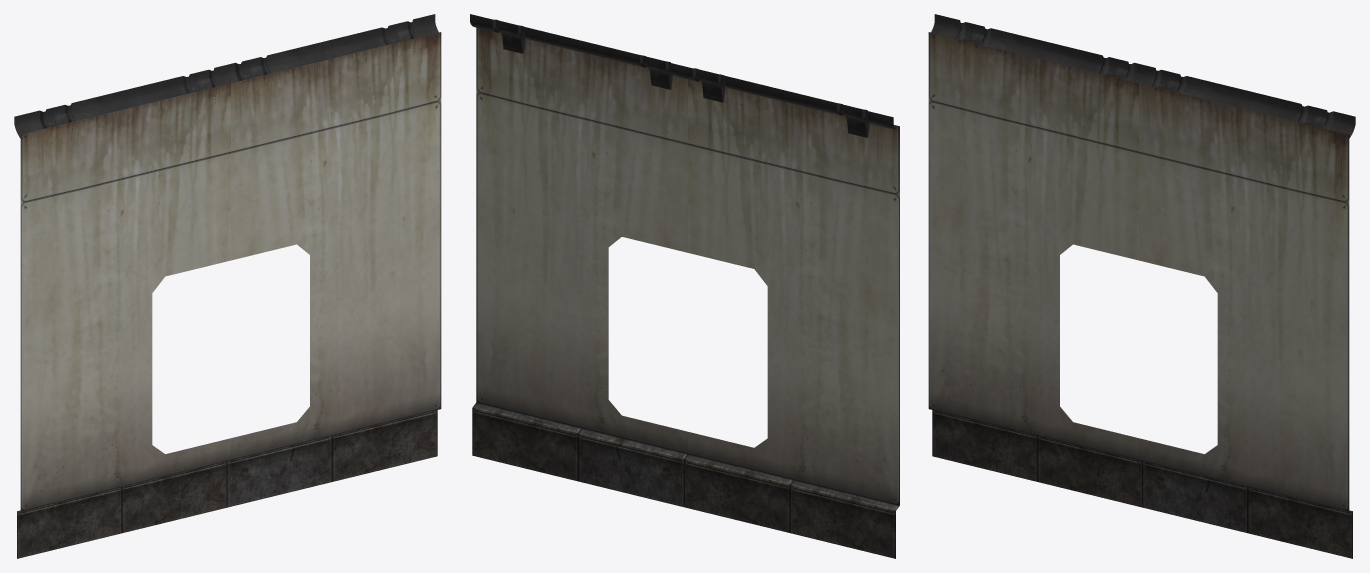
File: lab_flat_short_vent_lower_wall.dae
The picture shows the model from 3 angles, left to right: view 1: azimuth 30°, elevation 25°; view 2: azimuth 150°, elevation 25°; view 3: azimuth 330°, elevation 25°; orthographic projection.
Visible parts, largest first — view 1: lab_flat; view 2: lab_flat; view 3: lab_flat.
Boxes of the visible parts, x1,y1,x2,y2 form: lab_flat: (14, 14, 441, 558); lab_flat: (470, 14, 899, 558); lab_flat: (928, 14, 1355, 558).
Bounding box in the file's own units: 4 × 4 × 0.1056.
